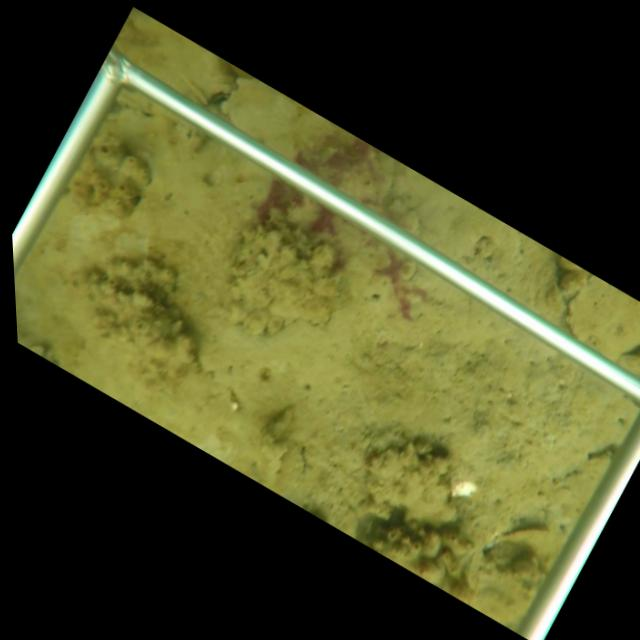Oyster-Closed: (561, 275, 640, 365)
Oyster-Indeterminate: (365, 435, 457, 532), (495, 526, 558, 560)
